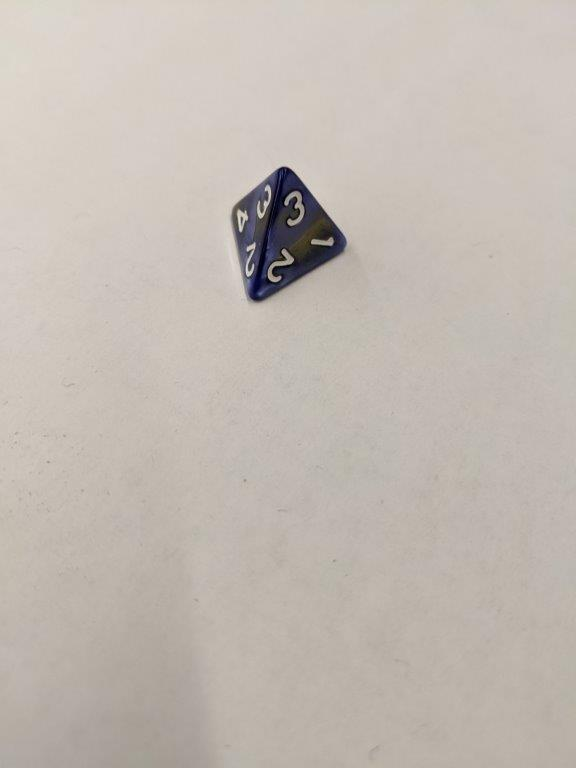d4-3: (225, 165, 351, 306)
